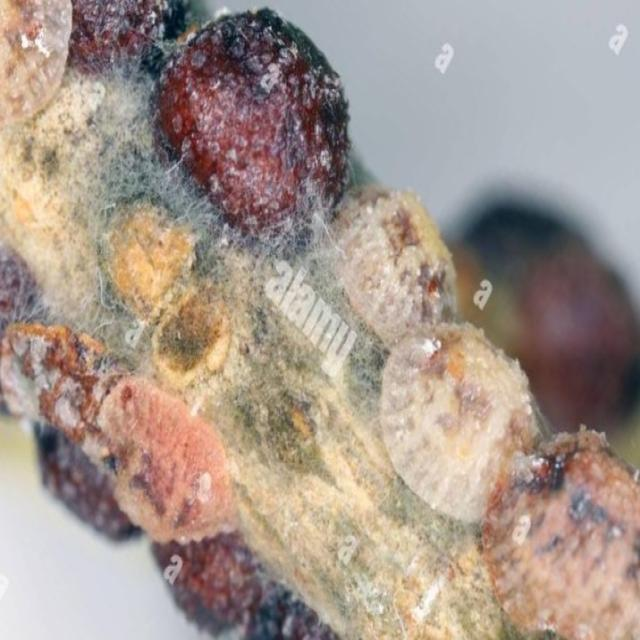Black Scale: (381, 317, 639, 639), (0, 323, 228, 538), (158, 9, 349, 233), (153, 531, 338, 639), (339, 188, 459, 352)
